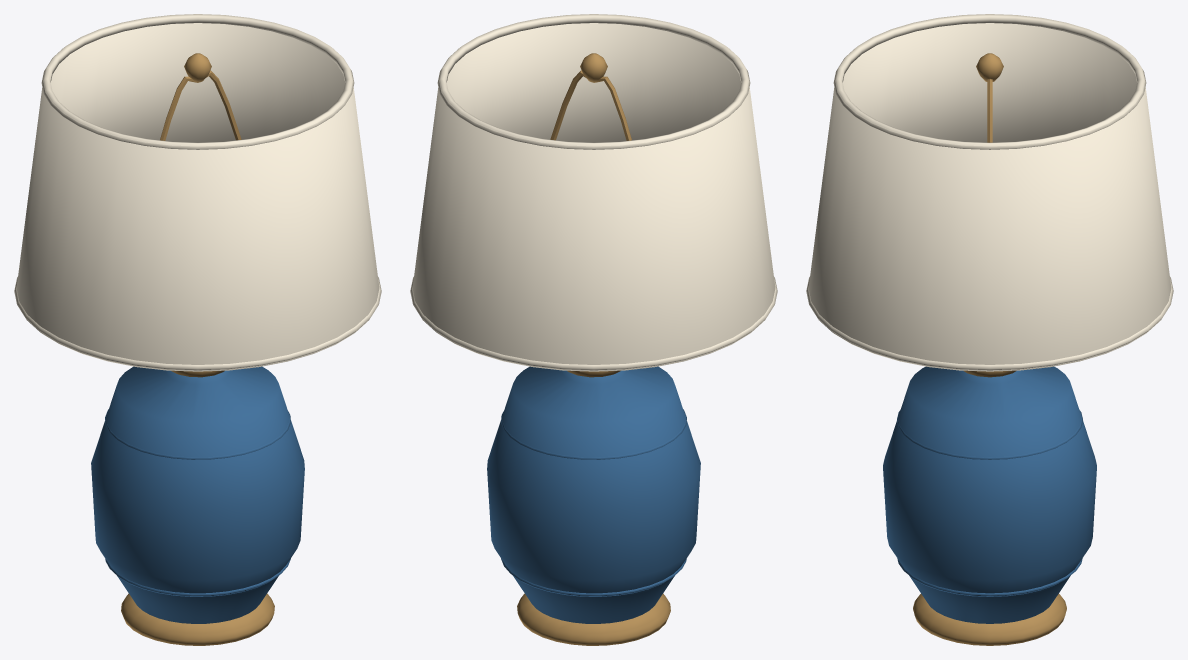
The model's file is lampTableRound.glb.
3 renders of one model, left to right at view 1: azimuth 30°, elevation 25°; view 2: azimuth 150°, elevation 25°; view 3: azimuth 270°, elevation 25°, orthographic.
Visible parts, largest first — view 1: lampTableRound; view 2: lampTableRound; view 3: lampTableRound.
Boxes of the visible parts, left/top/right/bottom form: lampTableRound: left=14, top=14, right=381, bottom=645; lampTableRound: left=410, top=14, right=777, bottom=645; lampTableRound: left=806, top=14, right=1173, bottom=645.
Bounding box in the file's own units: 0.343 × 0.577 × 0.343.
